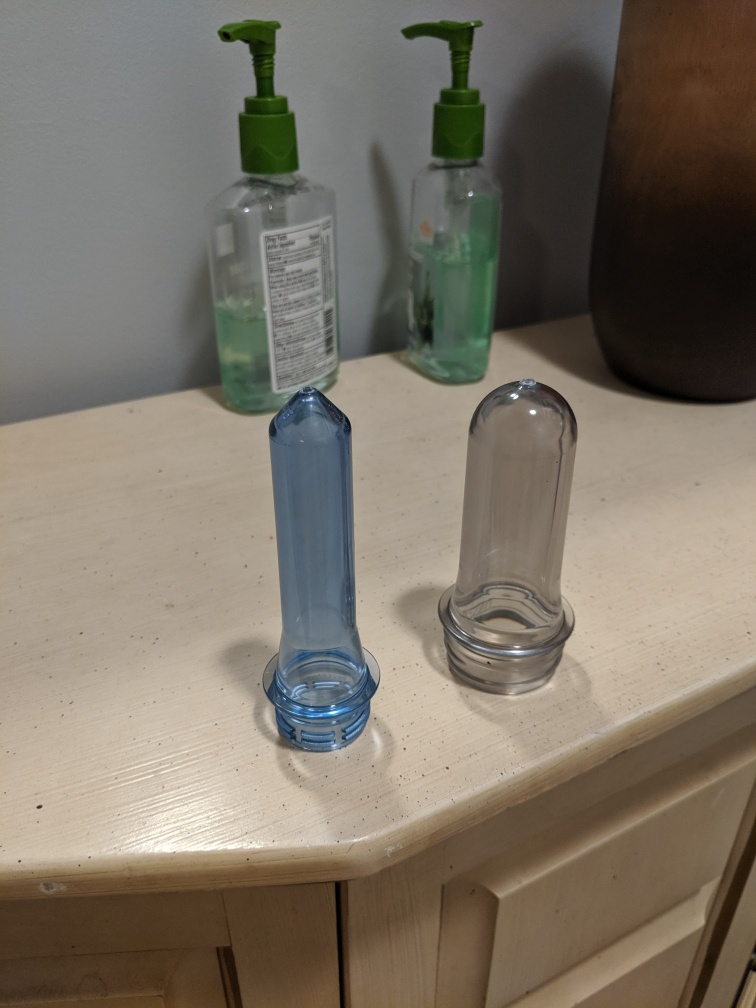preform: (254, 373, 394, 758), (429, 373, 587, 704)
